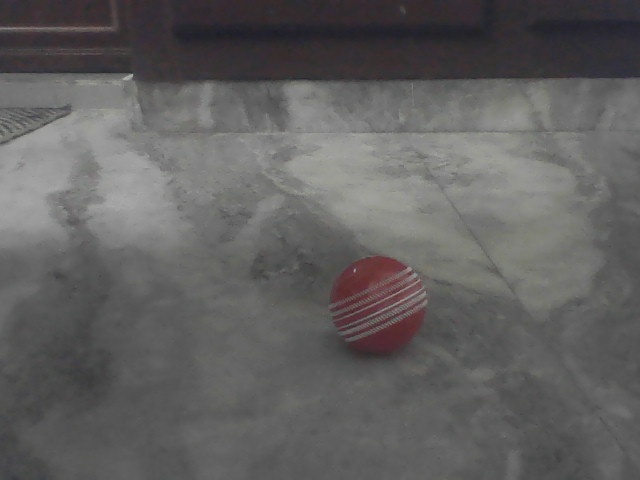cricket_ball: (320, 252, 430, 358)
